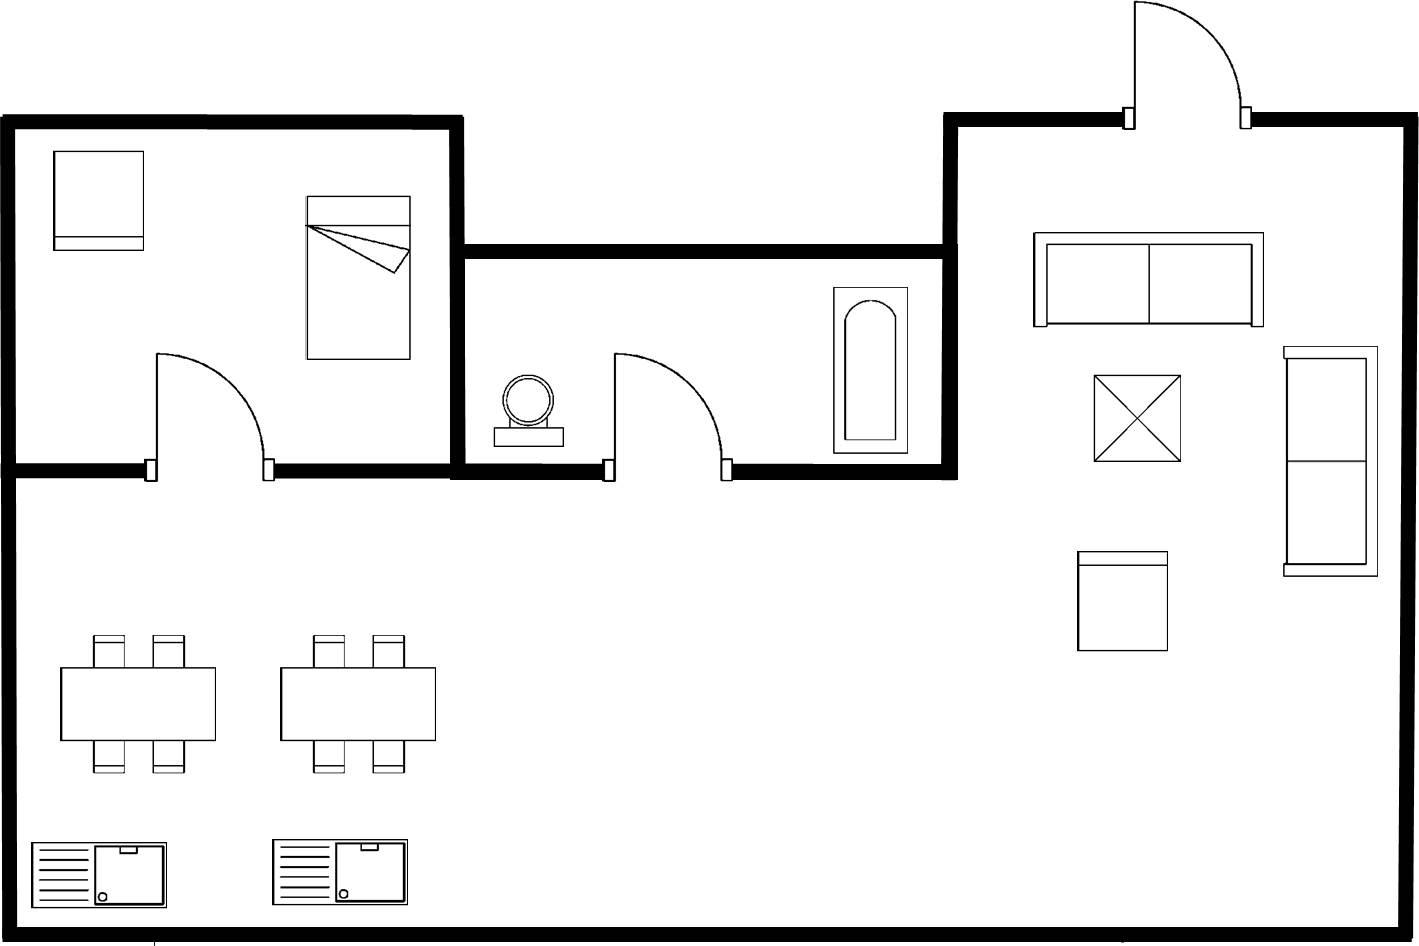bed: (300, 190, 418, 366)
dining_table: (52, 629, 226, 779), (270, 628, 442, 777)
sink: (25, 833, 175, 915), (266, 832, 414, 911)
sofa: (1273, 339, 1383, 582), (1026, 225, 1268, 334), (1068, 543, 1178, 659)
toilet: (488, 367, 572, 454)
tub: (824, 279, 915, 457)
